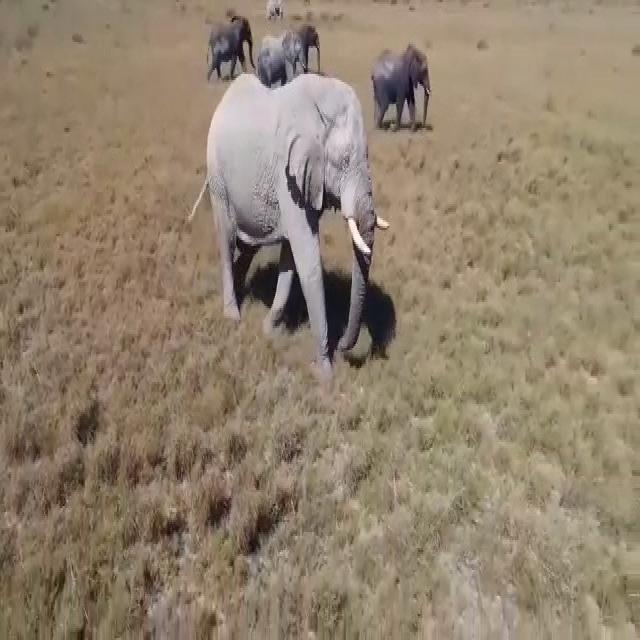Elephant: (203, 70, 379, 351), (370, 45, 435, 134), (210, 0, 252, 78), (258, 28, 306, 82), (292, 22, 323, 71), (268, 0, 286, 22)
